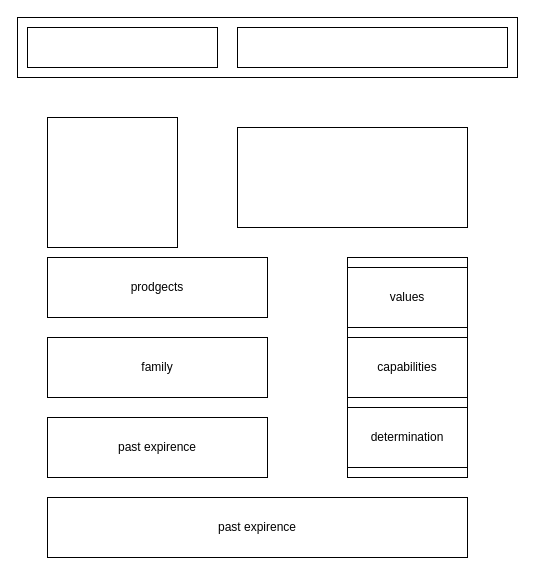
Some shapes in this 535 by 575 pixel diagram are drawn without their labels. The shapes that lost their labels are listed below. From the top down, each one's box as (x1, y1, x2, y2) in pixels, then its label:
(26, 26, 218, 68): name
(236, 26, 508, 68): contatc info
(46, 116, 178, 248): photo
(236, 126, 468, 228): something fun about your self
